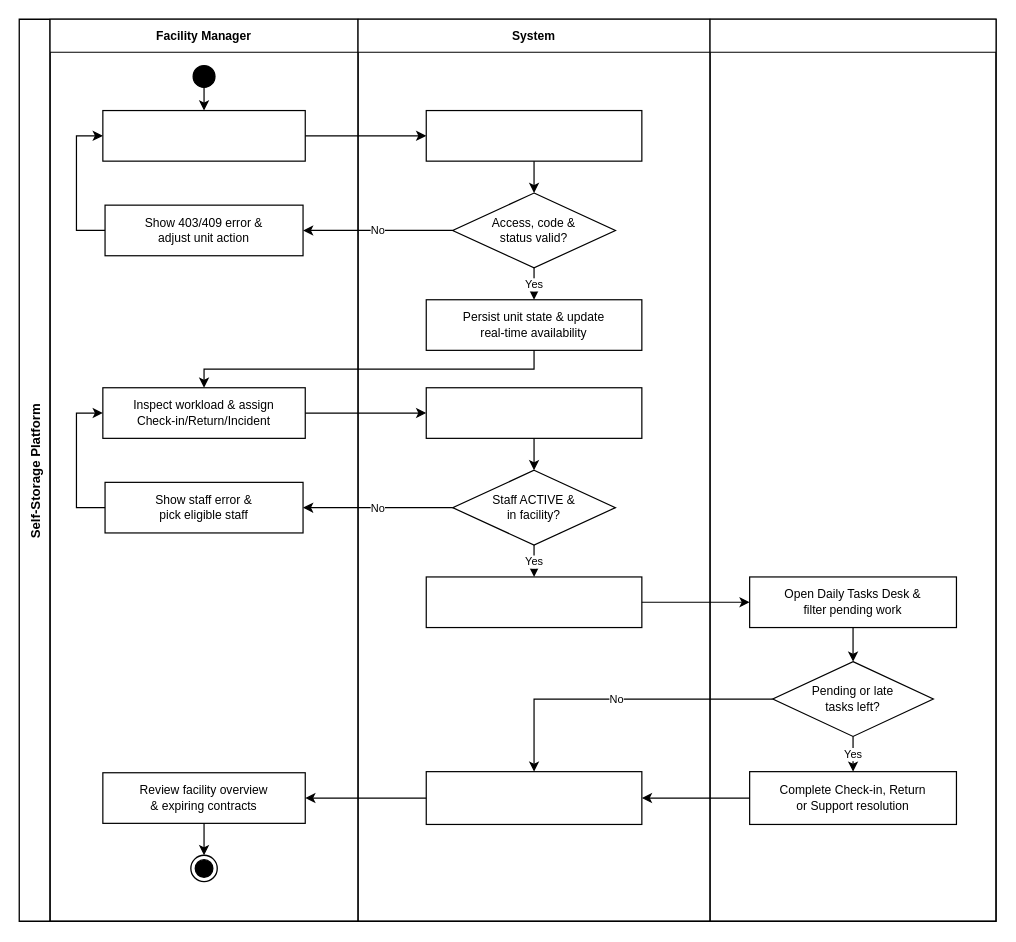
Image size: 1016x942. Some labels were removed from this diagram. The shapes that lost their labels are listed below. From the top down, each one's box as (x1, y1, x2, y2) in pixels, then its label:
(102, 109, 305, 161): Create unit(s) or toggle MAINTENANCE / OOS
(425, 109, 642, 161): Verify JWT facility scope, code uniqueness & state
(425, 387, 642, 438): Check staff ACTIVE status & facility membership
(709, 18, 996, 921): Facility Staff
(425, 576, 642, 628): Save task assignment & publish daily queue
(425, 771, 642, 825): Aggregate daily tasks, Usage Rate & debt aging
